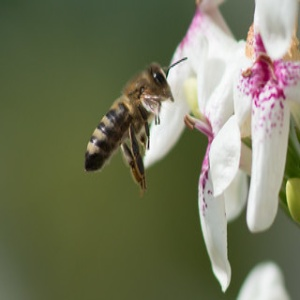bee: (83, 57, 192, 202)
